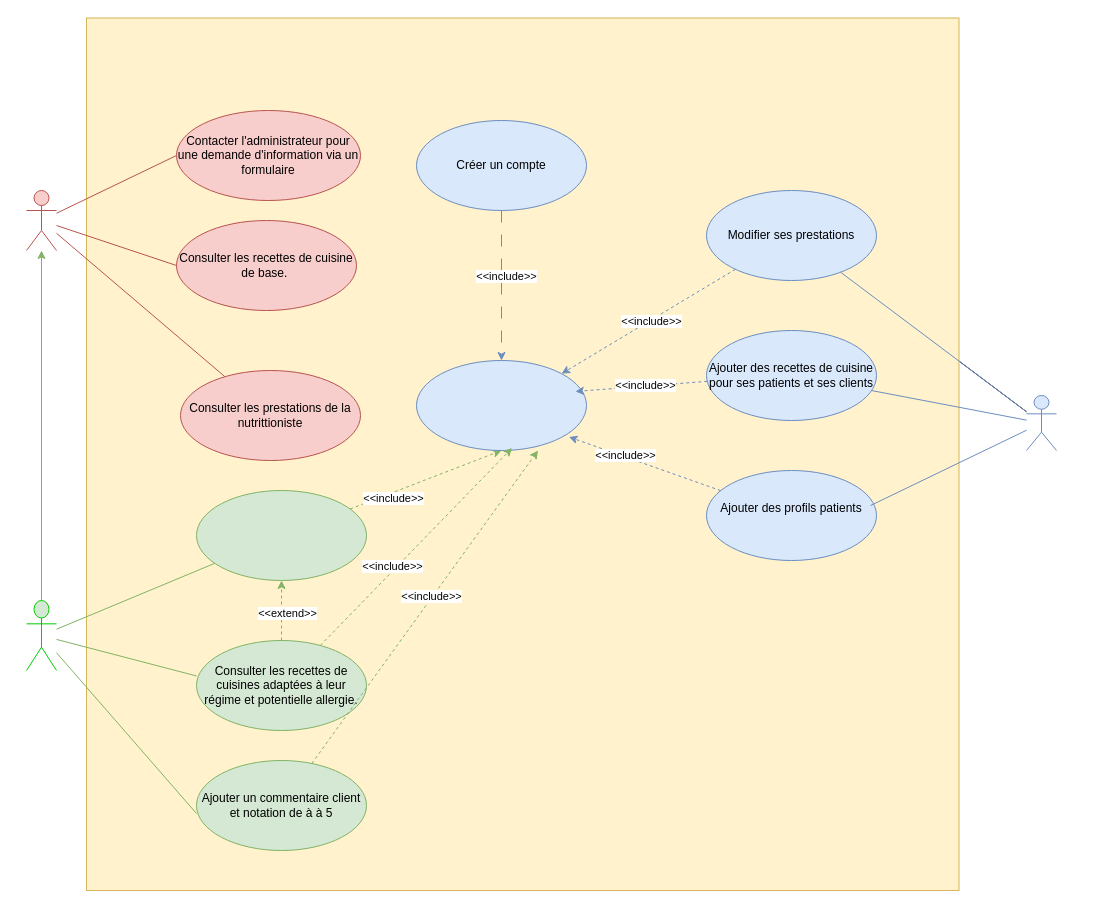
This 1112x908 diagram has some shape labels left out. Each missing label, with the centre of its shape:
ADMINISTRATEUR: the point at 1041,422
CLIENT: the point at 41,220
Filtrer les recettes de cuisine: the point at 281,535
PATIENT: the point at 41,635
Se connecter: the point at 501,405
